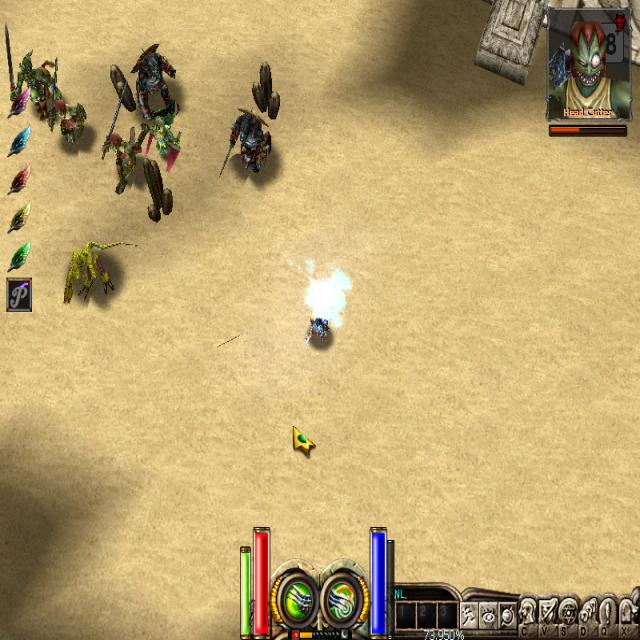monster: (214, 88, 304, 215), (41, 212, 137, 323), (104, 30, 197, 124), (5, 35, 62, 145), (97, 119, 150, 203)
